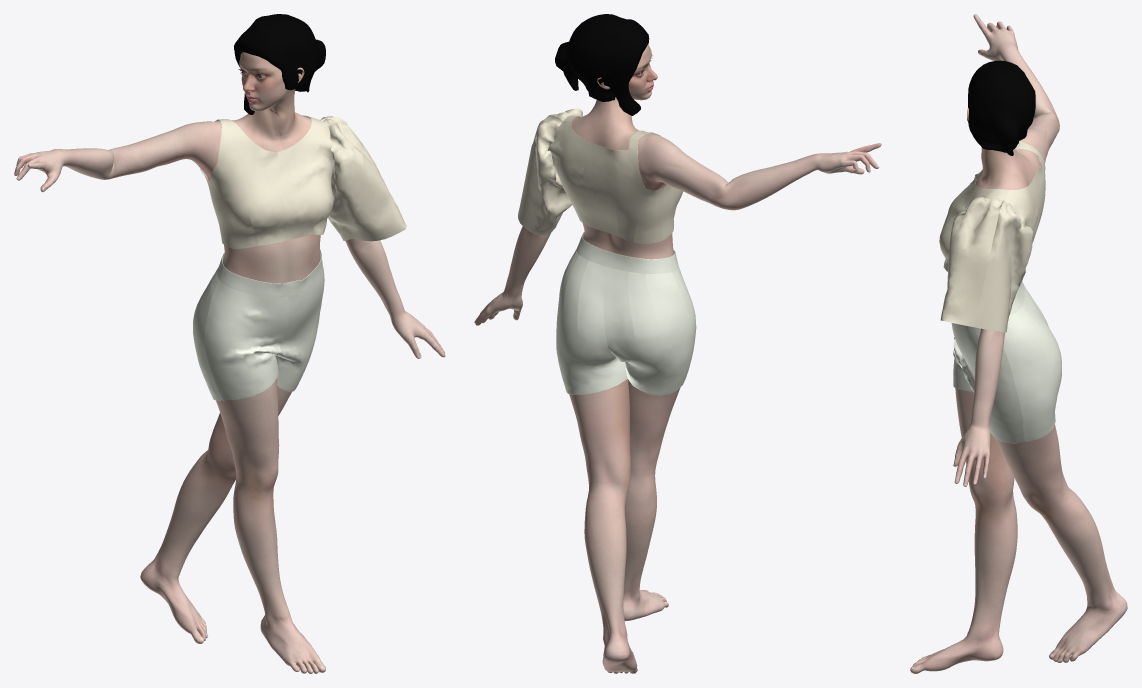
The model's file is Dynamic.obj.
3 views of the same model, side by side, from view 1: azimuth 30°, elevation 25°; view 2: azimuth 150°, elevation 25°; view 3: azimuth 270°, elevation 25° (orthographic). The views are drawn at different scales.
Bounding box in the file's own units: 1226 × 1775 × 569.
